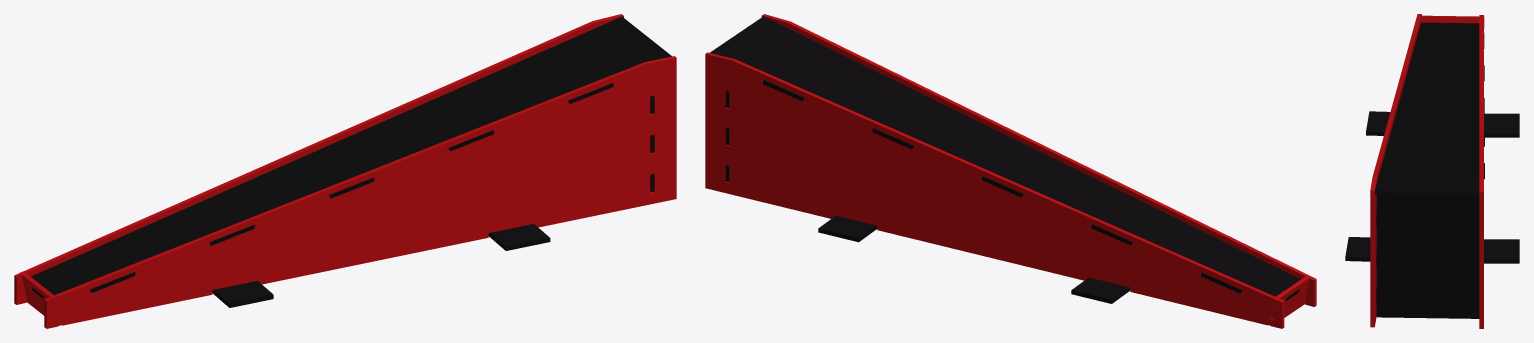
File: slide_long.obj
3 views of the same model, side by side, from view 1: azimuth 30°, elevation 25°; view 2: azimuth 150°, elevation 25°; view 3: azimuth 270°, elevation 25° (orthographic). The views are drawn at different scales.
Parts seen in each view (by area): view 1: assembly_slide_long; view 2: assembly_slide_long; view 3: assembly_slide_long.
Boxes of the visible parts, <box> form: assembly_slide_long: <box>14,14,676,328</box>; assembly_slide_long: <box>705,14,1316,328</box>; assembly_slide_long: <box>1345,14,1519,328</box>.
Bounding box in the file's own units: 0.572 × 0.1267 × 0.1463.
